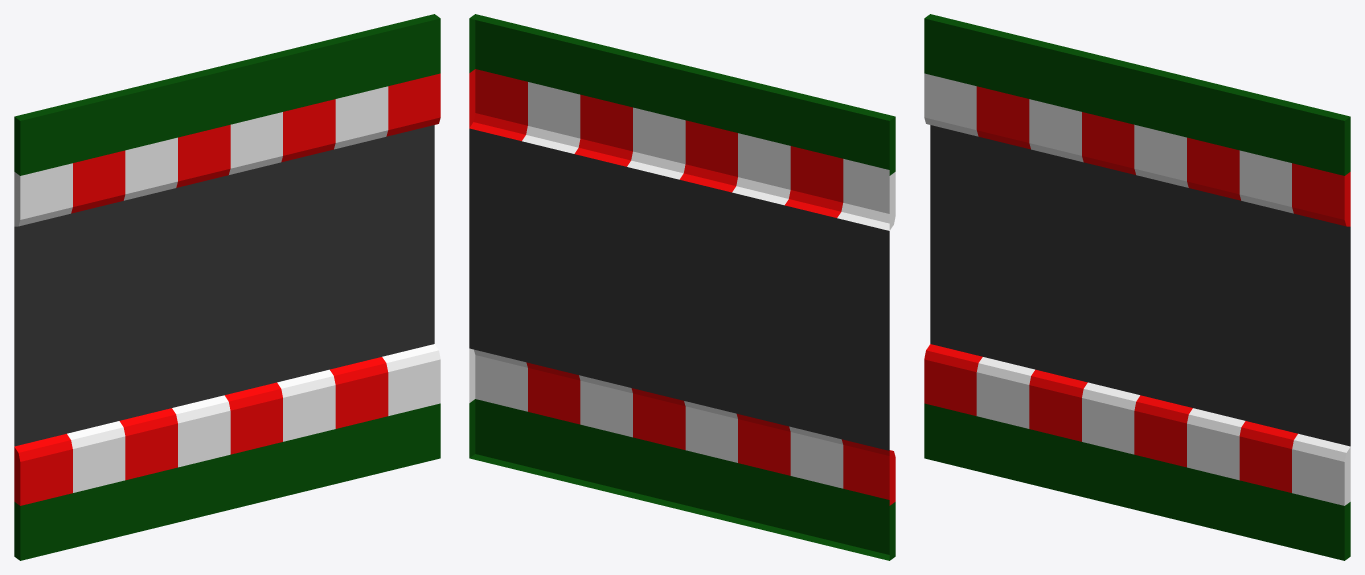
Rendered from Straight.obj.
3 renders of one model, left to right at view 1: azimuth 30°, elevation 25°; view 2: azimuth 150°, elevation 25°; view 3: azimuth 330°, elevation 25°, orthographic.
Parts seen in each view (by area): view 1: Plane; view 2: Plane; view 3: Plane.
Boxes of the visible parts, x1=… form: Plane: x1=14, y1=14, x2=440, y2=560; Plane: x1=469, y1=14, x2=895, y2=560; Plane: x1=924, y1=14, x2=1350, y2=560.
Size of the model in its own units: 2 by 2 by 0.05.
